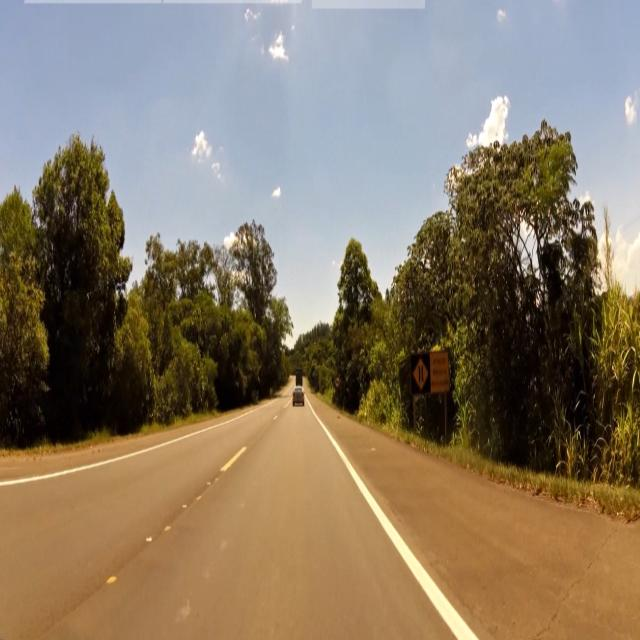A-22: (415, 358, 429, 392)
